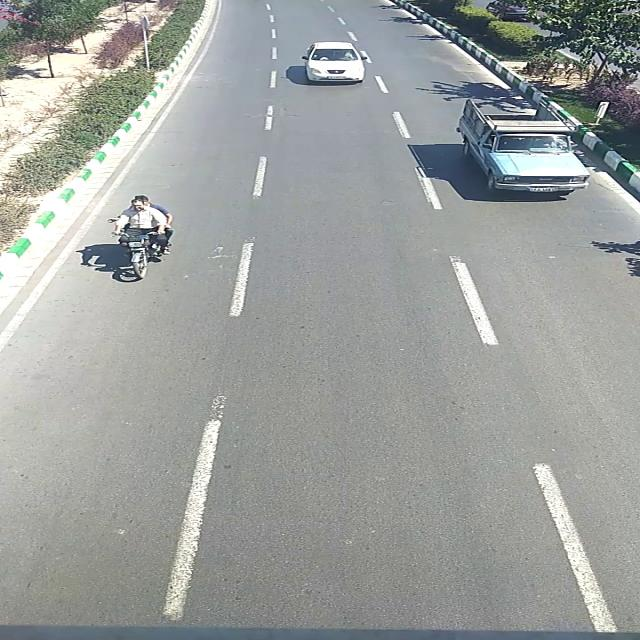car: (455, 99, 591, 191), (305, 41, 367, 84)
motor: (107, 194, 177, 282)
